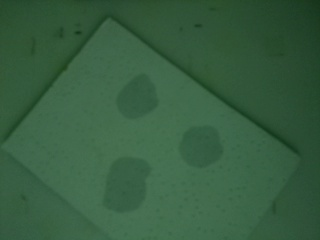Water_detected: (108, 165, 144, 209), (181, 129, 220, 167), (122, 73, 154, 108)
